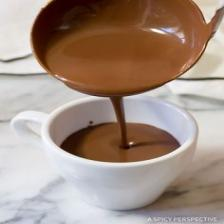brown: (31, 0, 224, 98)
